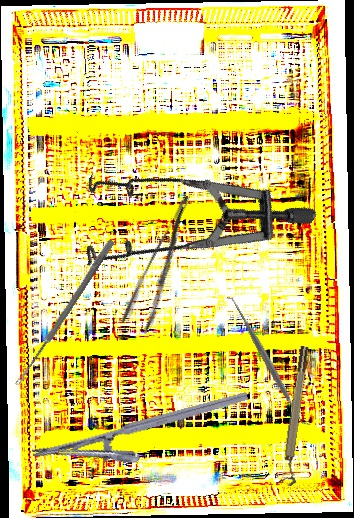Dressing Forceps: (118, 193, 212, 336)
Fixation Ring: (276, 345, 317, 487)
Needle Holder: (31, 390, 257, 489)
Spatula Surgical: (223, 290, 313, 433)
Speculum: (49, 98, 319, 356)
Surgical Spoon: (14, 238, 115, 388)
